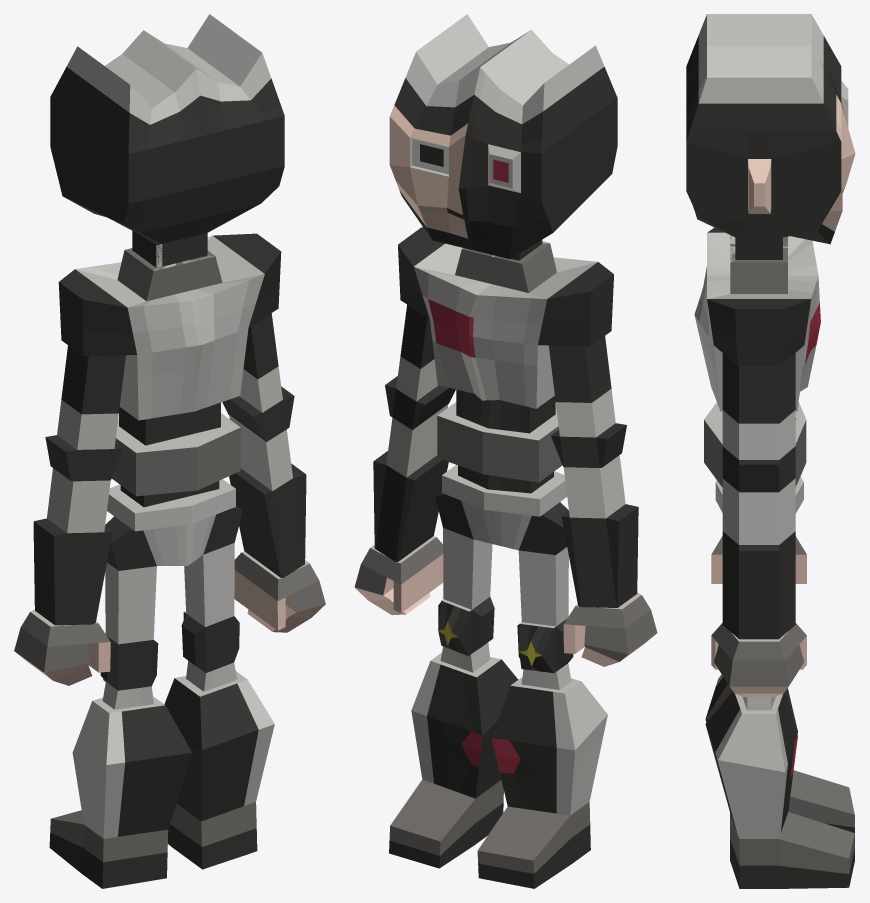
The model's file is cyborg.glb.
The picture shows the model from 3 angles, left to right: view 1: azimuth 30°, elevation 25°; view 2: azimuth 150°, elevation 25°; view 3: azimuth 270°, elevation 25°; orthographic projection. The views are drawn at different scales.
Visible parts, largest first — view 1: Cube; view 2: Cube; view 3: Cube.
Boxes of the visible parts, bbox=[...] form: Cube: bbox=[14, 14, 325, 888]; Cube: bbox=[354, 14, 657, 888]; Cube: bbox=[686, 14, 855, 888].
Bounding box in the file's own units: 1.54 × 4.25 × 0.8091.
